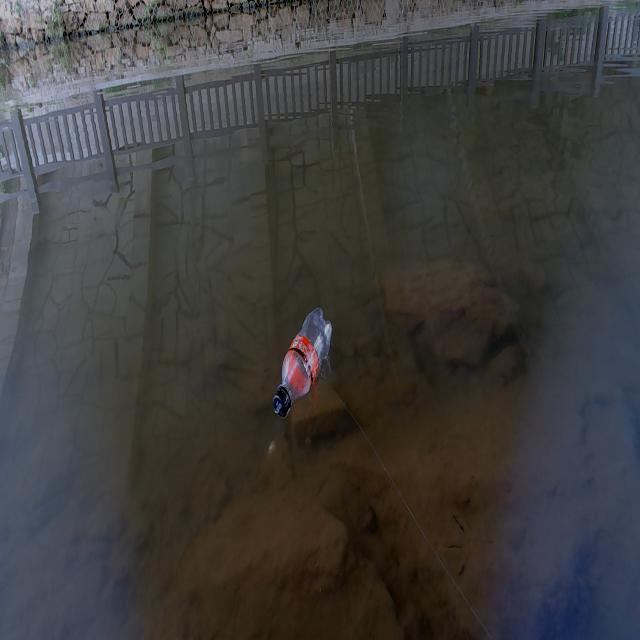bottle: (253, 272, 347, 438)
